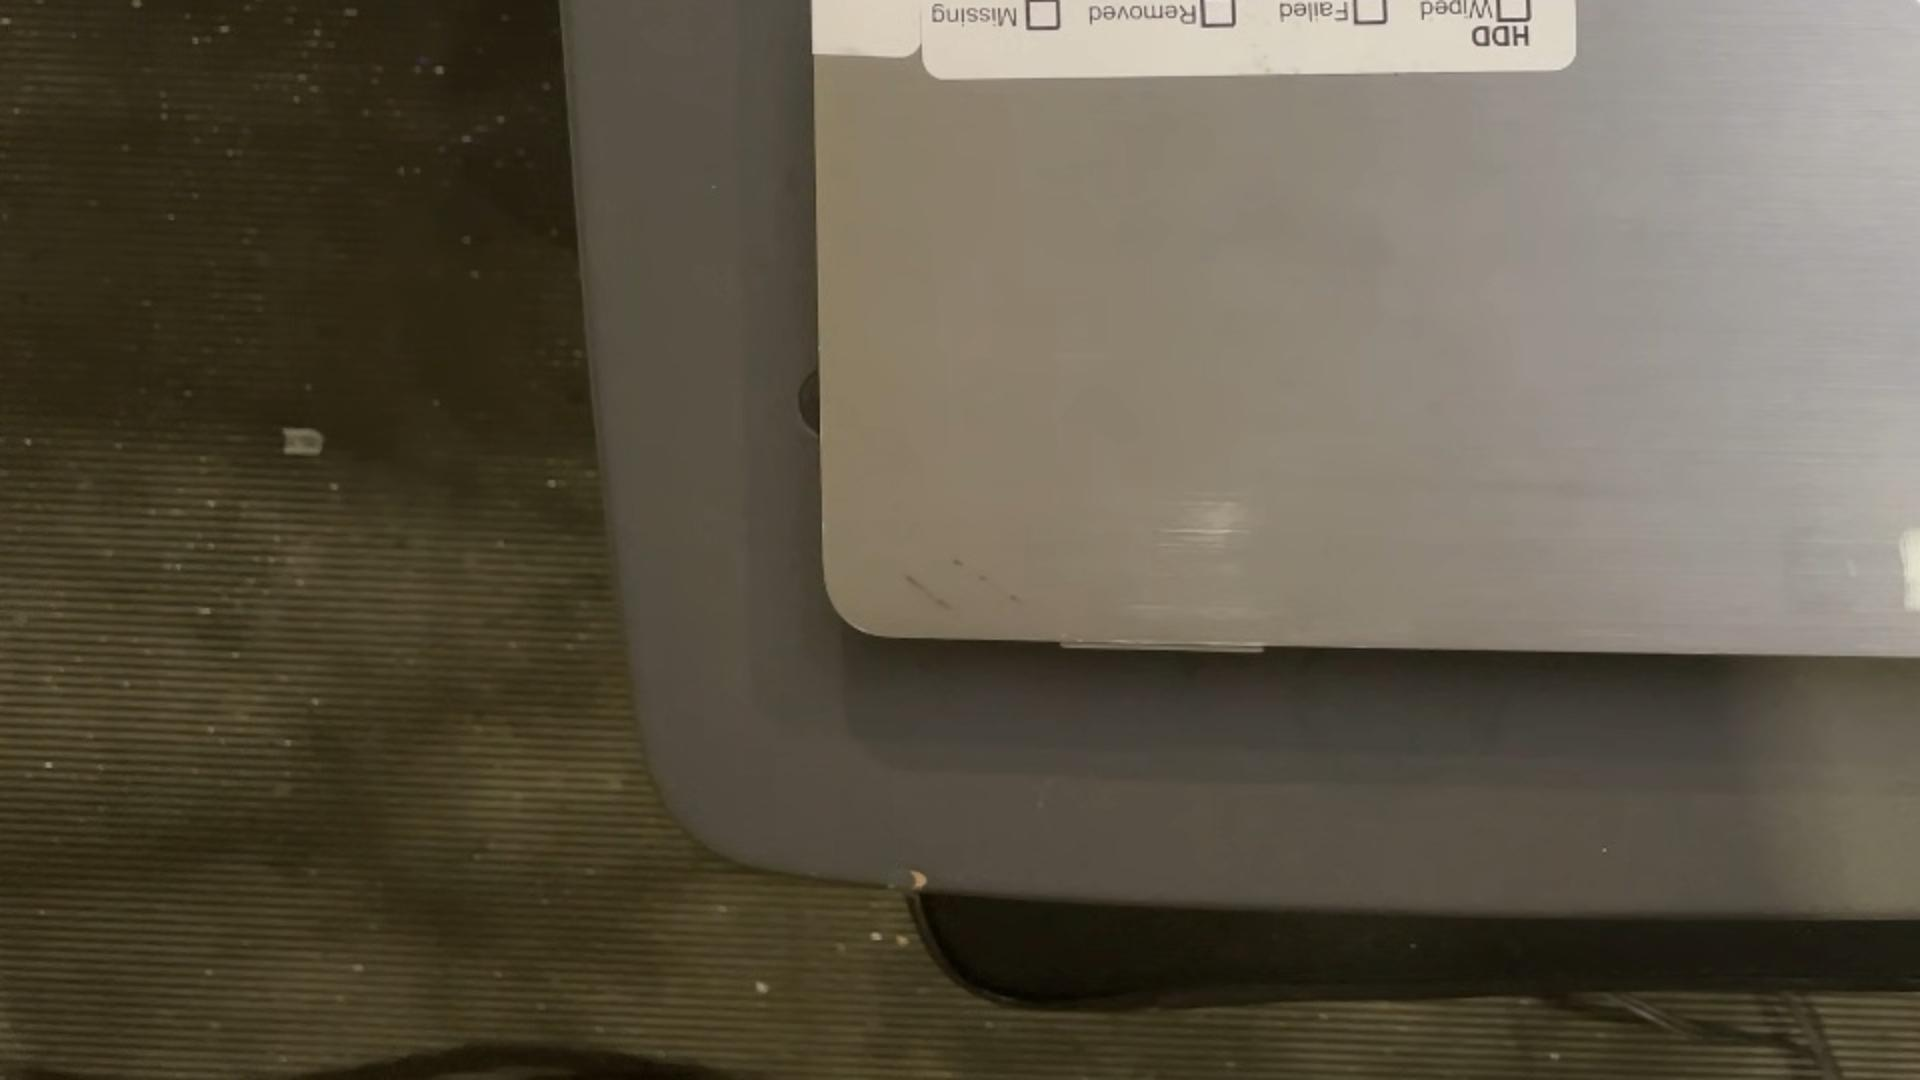scratches: (1054, 632, 1273, 646)
